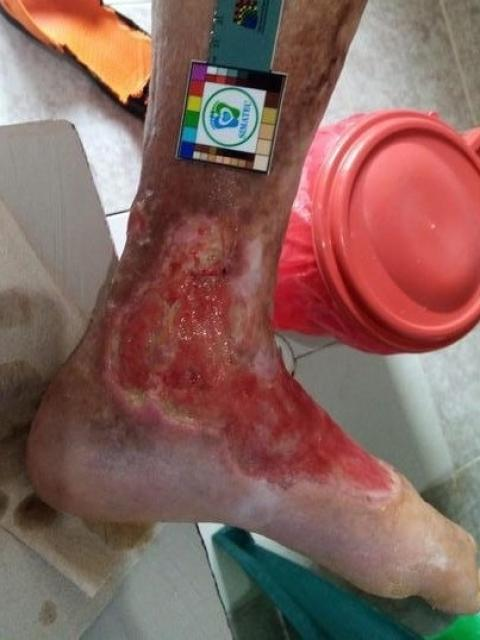wound: (110, 214, 402, 505), (127, 202, 151, 244)
